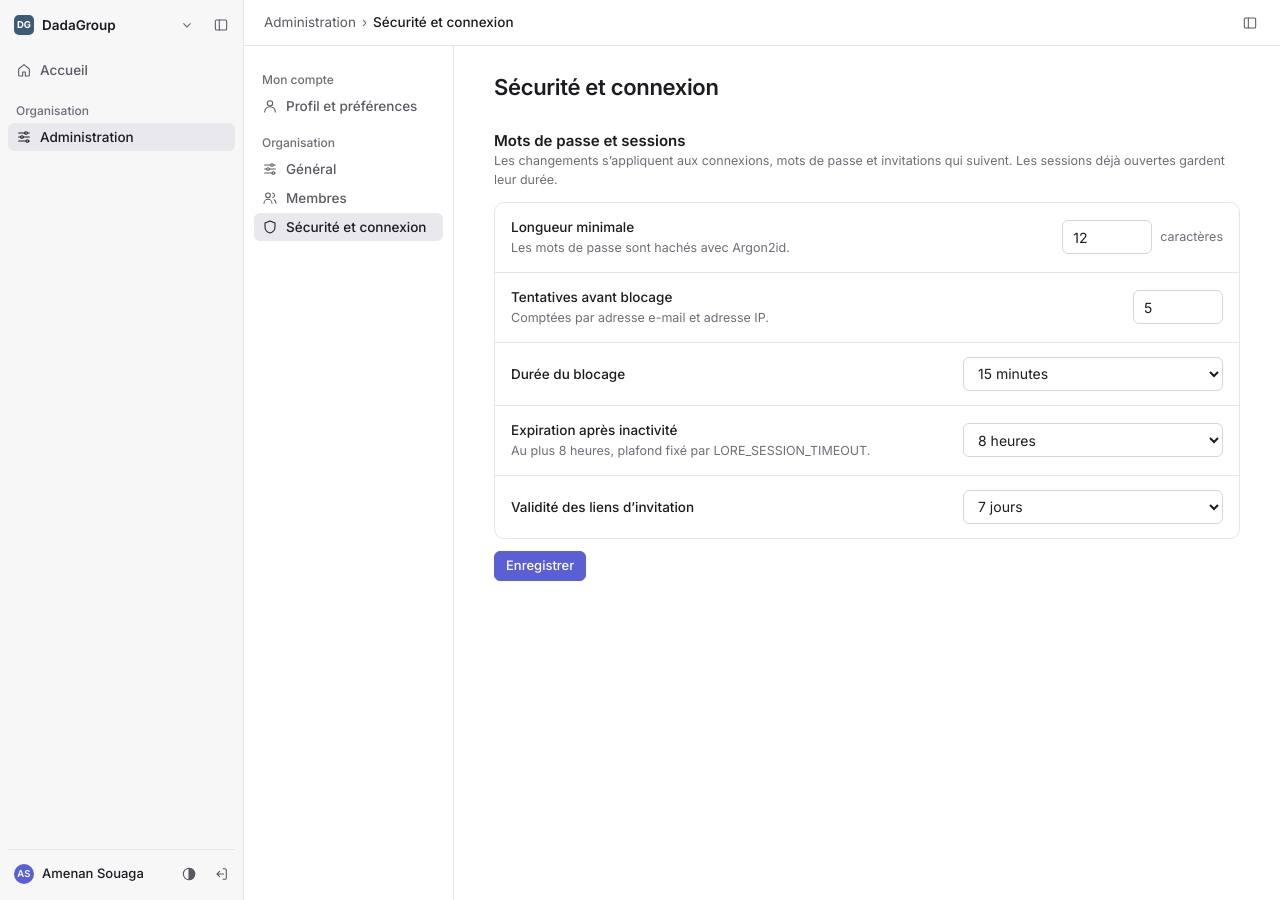
Test: Security and sign-in › sends every changed setting, and only those
Replace the text in the number field labelled "Longueur minimale" with "16" at (1107, 237), box [1062, 220, 1152, 254]
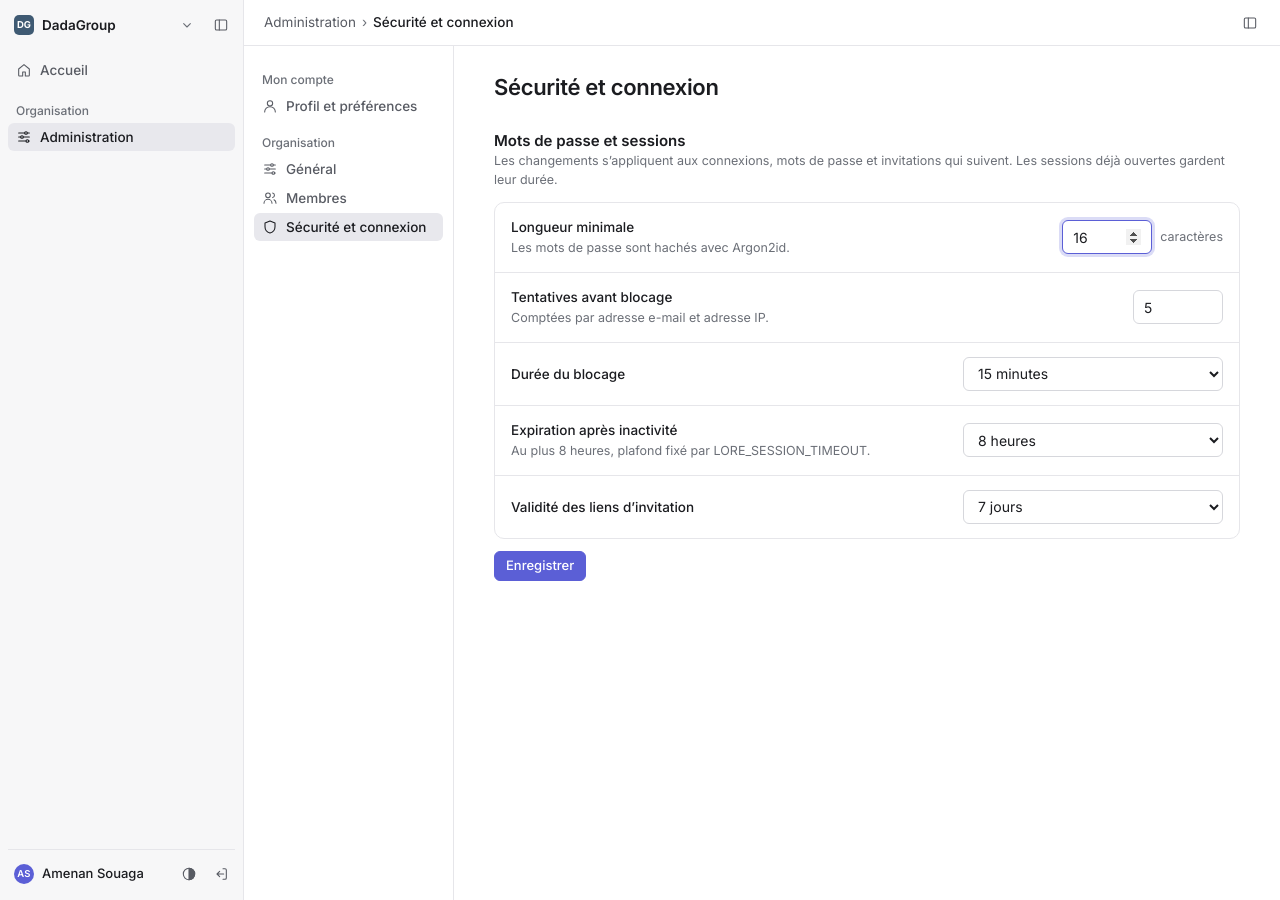
Replace the text in the number field labelled "Tentatives avant blocage" with "3" at (1178, 307), box [1133, 290, 1223, 324]
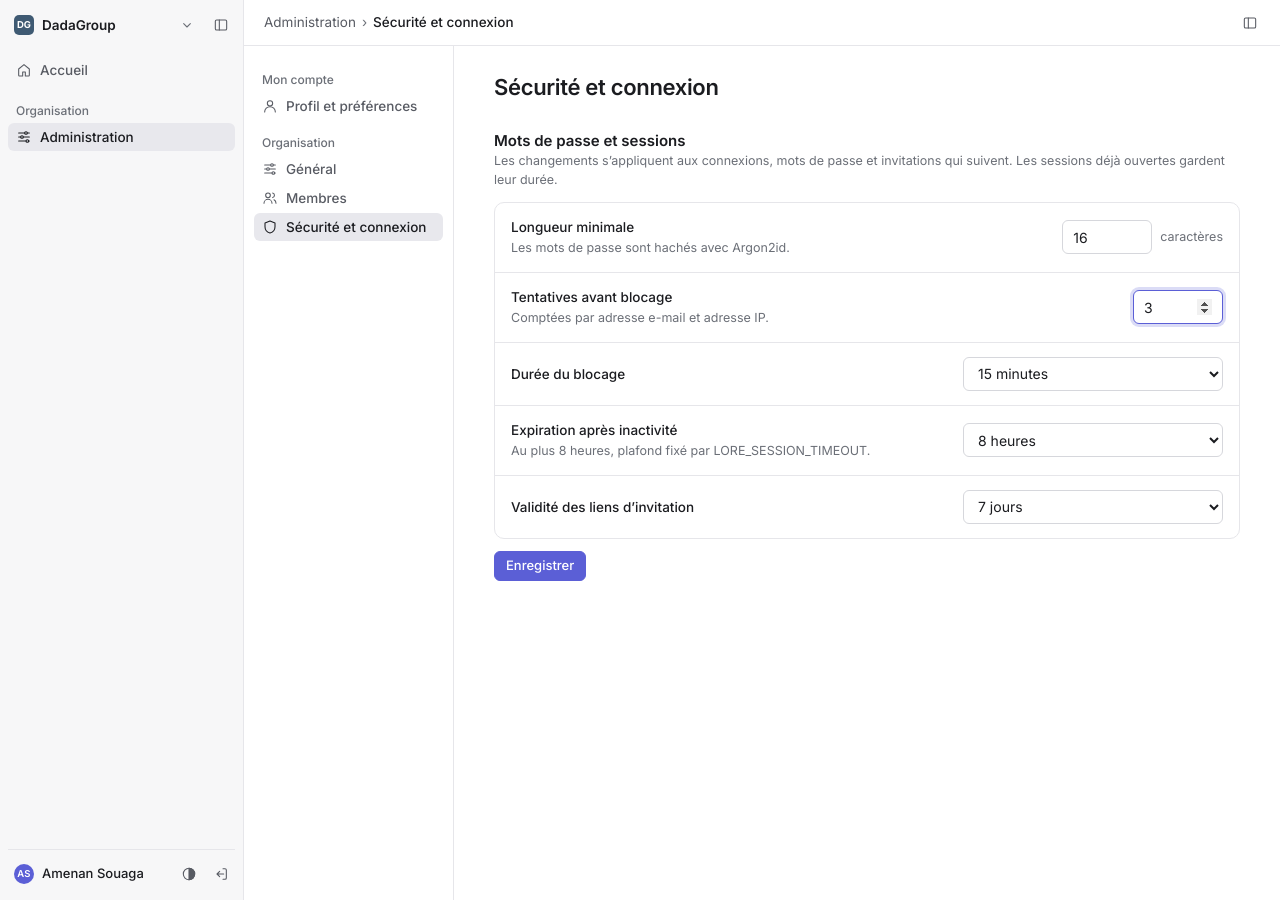
Select "1 heure" in the dropdown labelled "Durée du blocage" at (1093, 374), box [963, 357, 1223, 391]
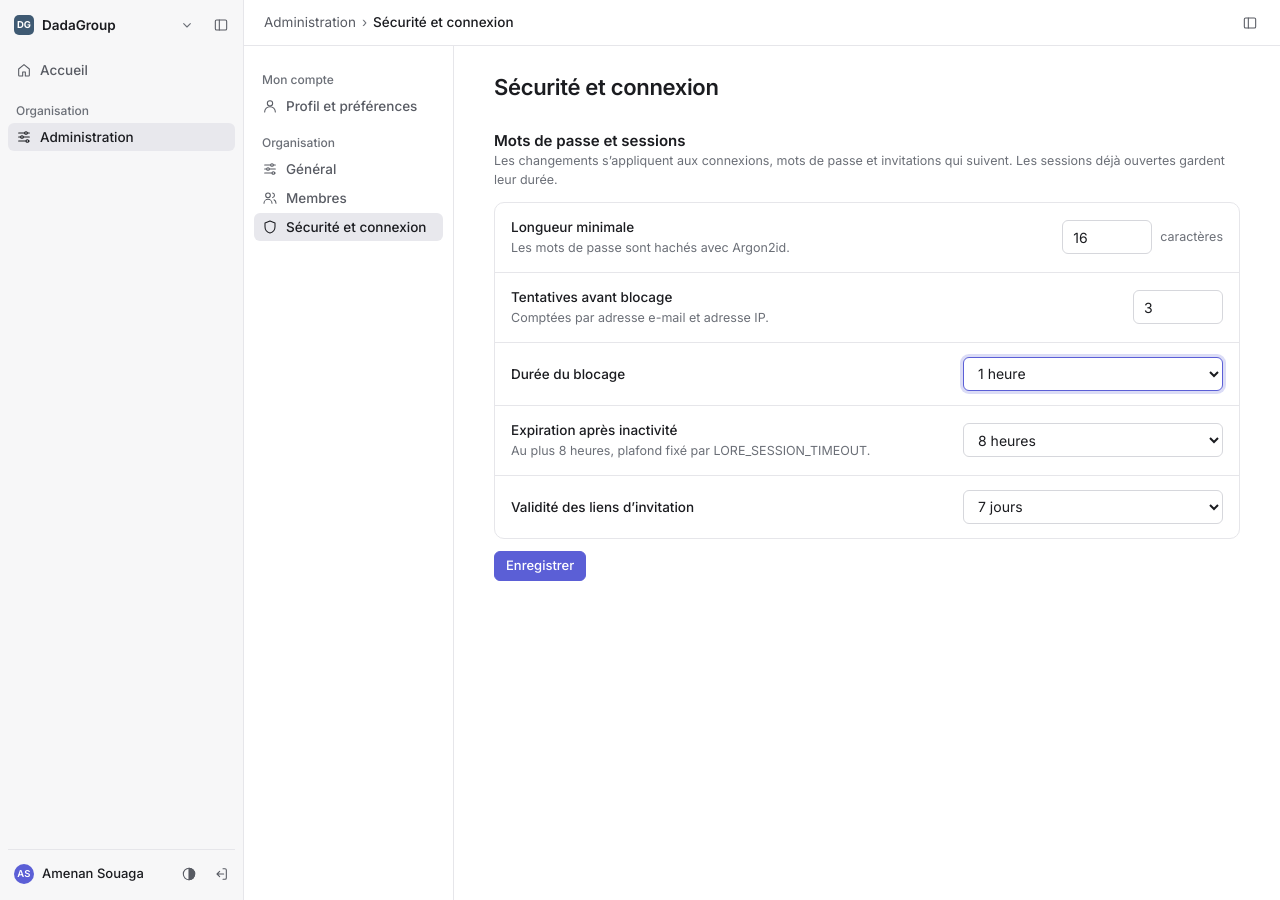
Select "30 minutes" in the dropdown labelled "Expiration après inactivité" at (1093, 440), box [963, 423, 1223, 457]
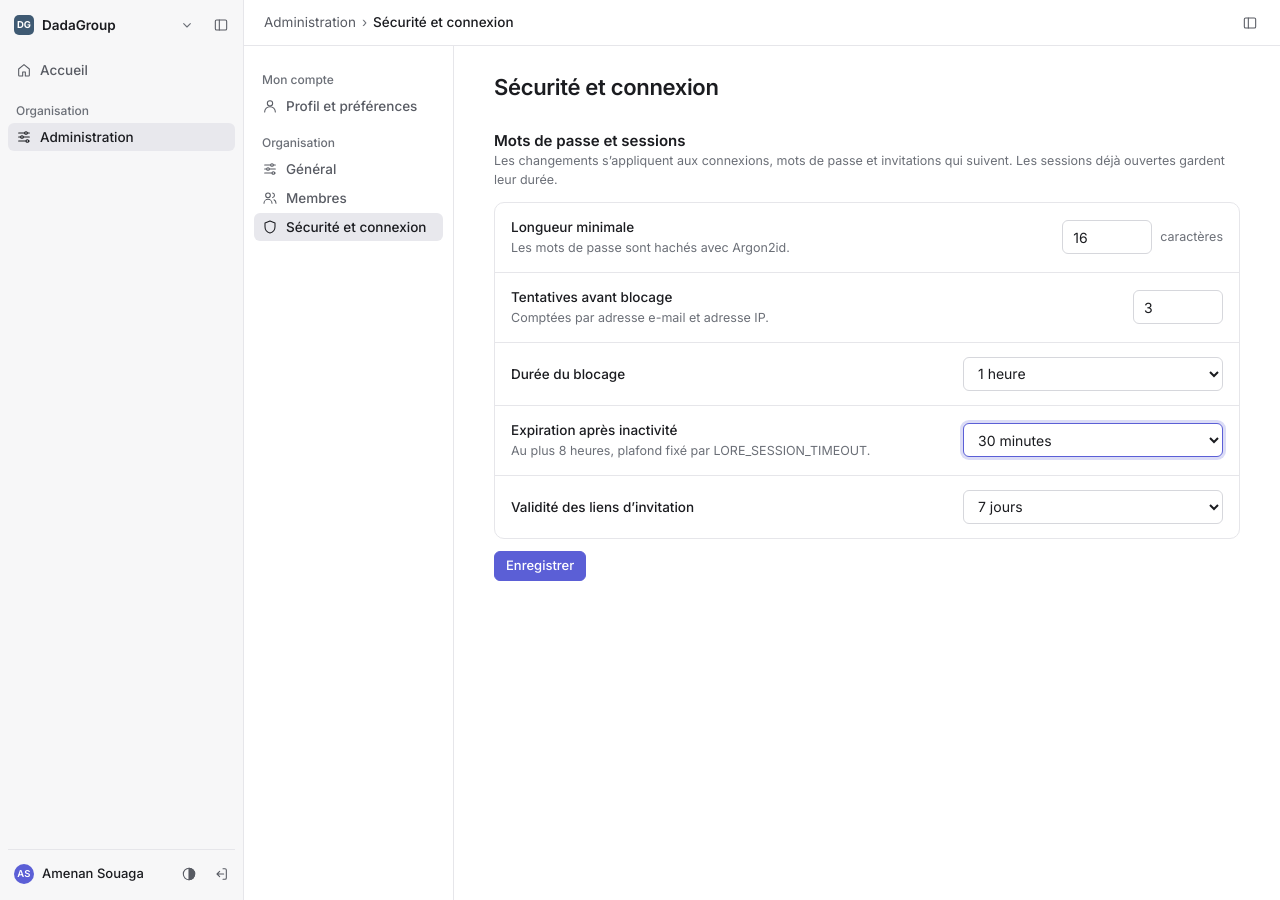
Select "2 jours" in the dropdown labelled "Validité des liens d’invitation" at (1093, 507), box [963, 490, 1223, 524]
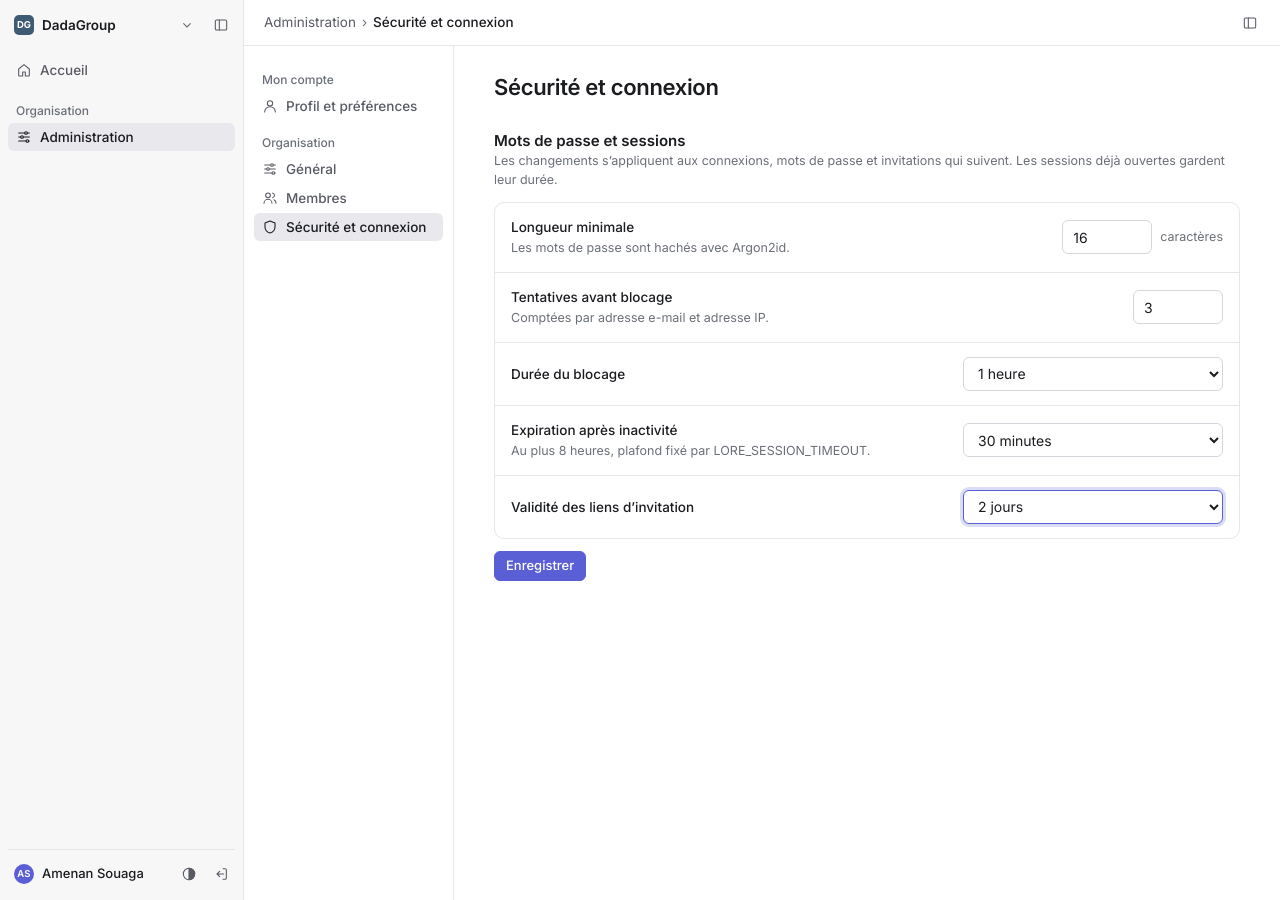
Click the button "Enregistrer" at (540, 566), box [494, 551, 586, 581]
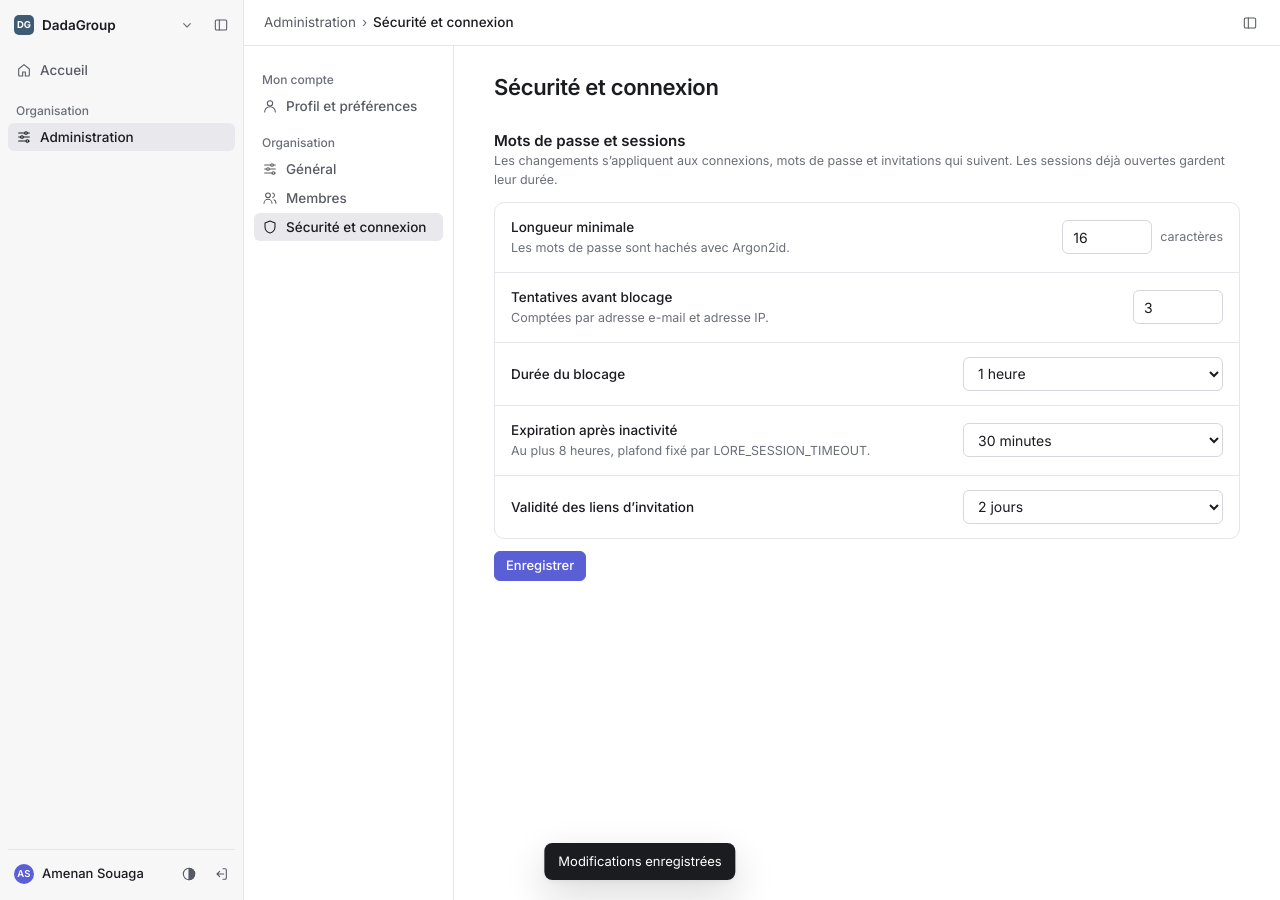
Result: the text "Modifications enregistrées" is shown at [544, 842, 736, 880]
